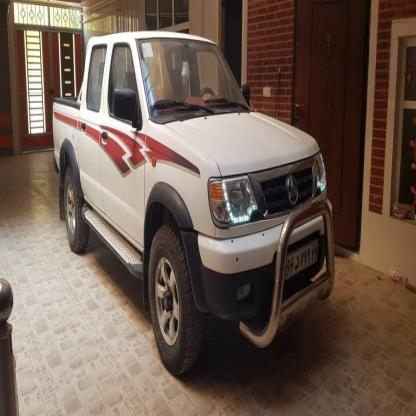Car: (46, 31, 334, 374)
